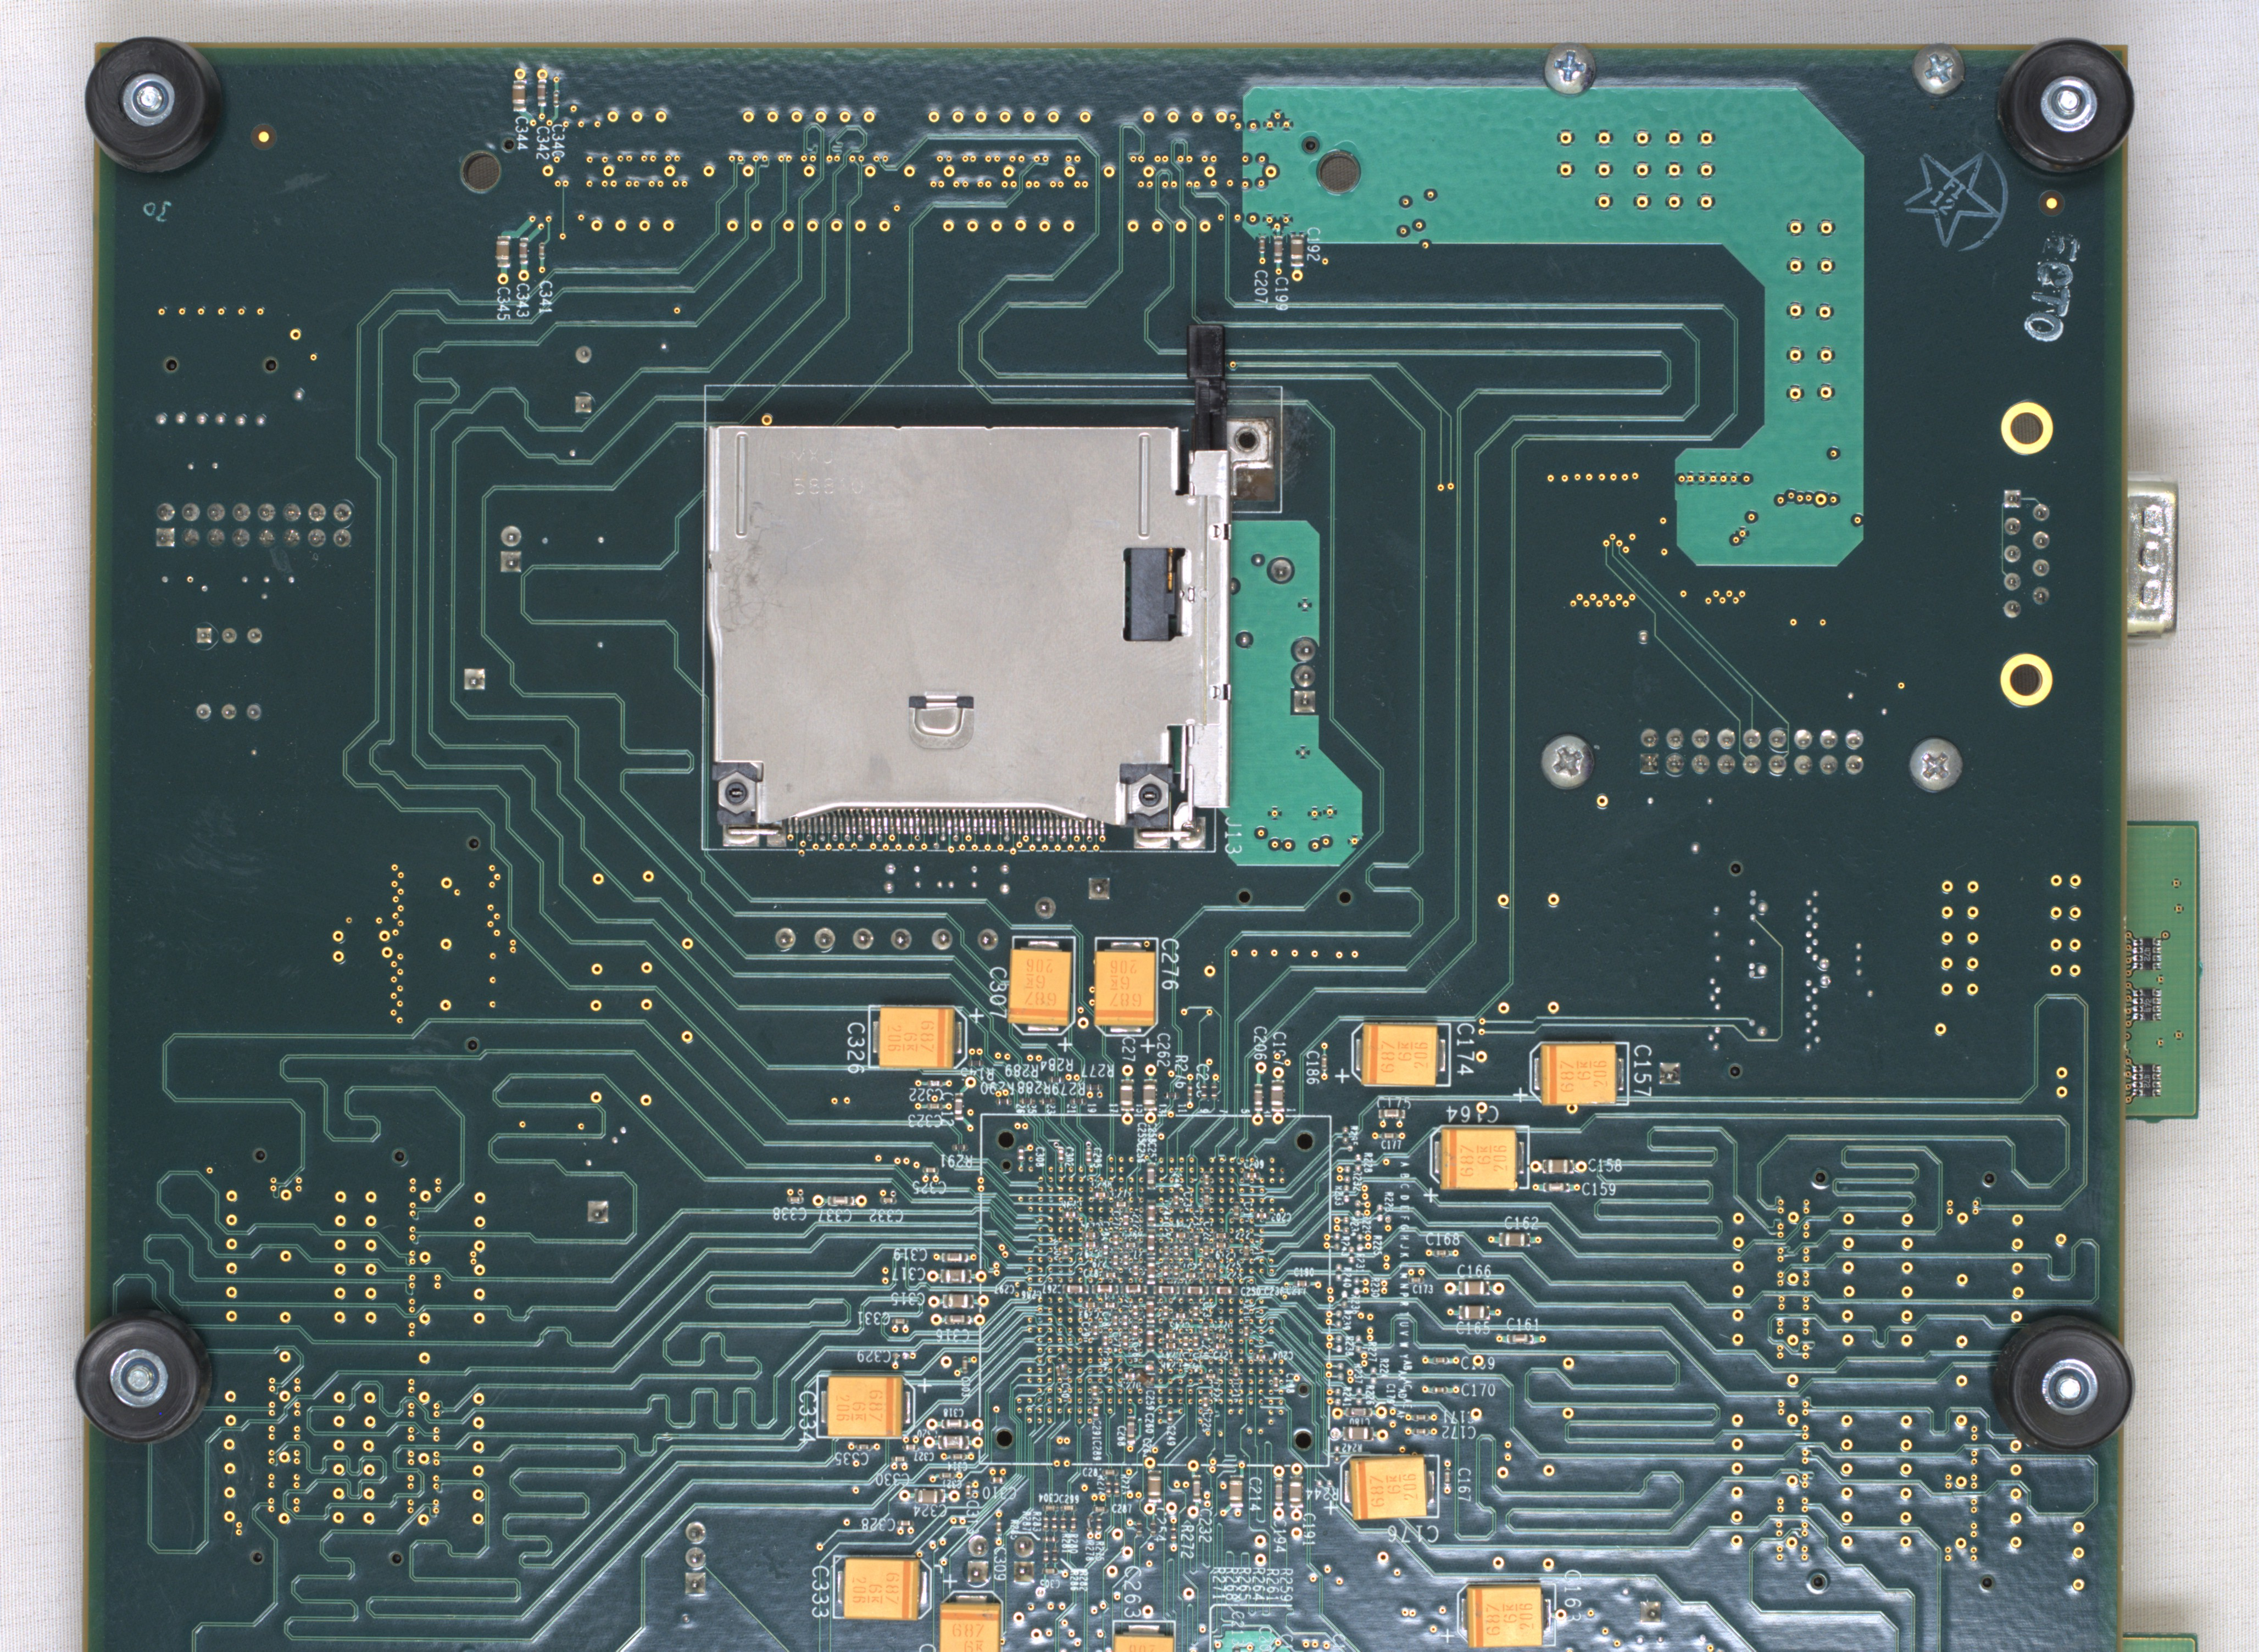capacitor C158: (1542, 1157, 1573, 1175)
capacitor C159: (1543, 1182, 1570, 1193)
capacitor C161: (1507, 1333, 1535, 1345)
capacitor C162: (1498, 1231, 1531, 1247)
capacitor C165: (1459, 1305, 1491, 1321)
capacitor C166: (1457, 1280, 1491, 1296)
capacitor C167: (1443, 1468, 1450, 1485)
capacitor C168: (1433, 1249, 1450, 1257)
capacitor C170: (1431, 1385, 1447, 1394)
capacitor C171: (1414, 1413, 1429, 1422)
capacitor C172: (1414, 1426, 1429, 1435)
capacitor C173: (1408, 1277, 1424, 1284)
capacitor C175: (1379, 1108, 1405, 1119)
capacitor C177: (1380, 1131, 1398, 1140)
capacitor C179: (1343, 1406, 1372, 1417)
capacitor C180: (1343, 1426, 1373, 1442)
capacitor C186: (1321, 1054, 1328, 1072)
capacitor C190: (1294, 1280, 1310, 1287)
capacitor C191: (1289, 1475, 1305, 1508)
capacitor C192: (1291, 235, 1305, 268)
capacitor C194: (1275, 1478, 1284, 1506)
capacitor C197: (1270, 1080, 1286, 1112)
capacitor C198: (1272, 1373, 1280, 1392)
capacitor C199: (1273, 235, 1282, 263)
capacitor C203: (1254, 1212, 1270, 1219)
capacitor C204: (1252, 1352, 1268, 1359)
capacitor C206: (1254, 1084, 1263, 1112)
capacitor C207: (1259, 237, 1265, 253)
capacitor C209: (1244, 1171, 1261, 1178)
capacitor C214: (1228, 1475, 1244, 1508)
capacitor C217: (1210, 1285, 1238, 1296)
capacitor C229: (1201, 1392, 1208, 1410)
capacitor C232: (1193, 1475, 1201, 1503)
capacitor C236: (1182, 1285, 1208, 1296)
capacitor C249: (1166, 1406, 1173, 1426)
capacitor C250: (1152, 1285, 1180, 1294)
capacitor C254: (1147, 1470, 1161, 1503)
capacitor C255: (1147, 1229, 1156, 1256)
capacitor C256: (1145, 1257, 1156, 1285)
capacitor C258: (1147, 1163, 1156, 1191)
capacitor C259: (1145, 1296, 1156, 1324)
capacitor C260: (1145, 1324, 1156, 1352)
capacitor C262: (1142, 1079, 1156, 1112)
capacitor C267: (1119, 1284, 1147, 1294)
capacitor C268: (1126, 1417, 1135, 1445)
capacitor C270: (1121, 1373, 1135, 1378)
capacitor C282: (1101, 1468, 1119, 1477)
capacitor C286: (1091, 1284, 1117, 1294)
capacitor C287: (1093, 1505, 1108, 1512)
capacitor C288: (1093, 1191, 1108, 1198)
capacitor C289: (1093, 1403, 1100, 1421)
capacitor C291: (1091, 1382, 1098, 1399)
capacitor C295: (1086, 1147, 1091, 1166)
capacitor C297: (1061, 1284, 1089, 1294)
capacitor C299: (1061, 1505, 1077, 1512)
capacitor C302: (1058, 1145, 1065, 1163)
capacitor C303: (961, 1356, 968, 1375)
capacitor C304: (1042, 1505, 1059, 1512)
capacitor C305: (1042, 1568, 1059, 1575)
capacitor C308: (1017, 1145, 1024, 1161)
capacitor C309: (994, 1519, 1001, 1536)
capacitor C310: (989, 1475, 1005, 1484)
capacitor C313: (965, 1482, 972, 1499)
capacitor C314: (951, 1454, 966, 1459)
capacitor C315: (942, 1294, 973, 1308)
capacitor C316: (945, 1314, 972, 1326)
capacitor C317: (940, 1268, 972, 1284)
capacitor C318: (942, 1419, 968, 1429)
capacitor C319: (942, 1252, 968, 1263)
capacitor C321: (940, 1471, 954, 1480)
capacitor C322: (926, 1080, 944, 1087)
capacitor C323: (926, 1103, 944, 1110)
capacitor C324: (914, 1489, 945, 1503)
capacitor C325: (923, 1166, 940, 1175)
capacitor C327: (901, 1443, 917, 1452)
capacitor C328: (896, 1519, 914, 1527)
capacitor C330: (891, 1456, 907, 1463)
capacitor C331: (891, 1319, 909, 1326)
capacitor C332: (879, 1196, 898, 1205)
capacitor C335: (856, 1443, 872, 1450)
capacitor C337: (828, 1194, 854, 1207)
capacitor C338: (786, 1196, 805, 1203)
capacitor C340: (552, 89, 559, 107)
capacitor C341: (538, 242, 545, 260)
capacitor C342: (537, 79, 547, 107)
capacitor C343: (517, 237, 528, 265)
capacitor C344: (512, 81, 526, 112)
capacitor C345: (495, 235, 510, 268)
capacitor unknown: (1119, 1079, 1135, 1112), (938, 1435, 970, 1450), (954, 1093, 965, 1121), (1135, 1371, 1152, 1387), (1147, 1200, 1156, 1228), (1056, 1363, 1068, 1380), (1172, 1191, 1180, 1210), (1061, 1210, 1079, 1219), (1061, 1240, 1070, 1257), (1082, 1240, 1100, 1249), (1172, 1231, 1189, 1240), (1182, 1242, 1191, 1259), (1172, 1263, 1180, 1280), (1182, 1271, 1200, 1280), (1201, 1271, 1219, 1280), (1101, 1301, 1119, 1310), (1131, 1301, 1140, 1319), (1131, 1322, 1140, 1340), (1121, 1333, 1129, 1350), (1172, 1312, 1189, 1321), (1161, 1342, 1179, 1350), (1180, 1333, 1189, 1350), (1212, 1342, 1229, 1350), (1214, 1231, 1229, 1240), (1203, 1261, 1219, 1270), (1112, 1229, 1119, 1249), (1203, 1170, 1210, 1189), (1233, 1201, 1240, 1221), (1091, 1321, 1098, 1340), (1201, 1322, 1208, 1342), (1101, 1271, 1119, 1278), (1122, 1212, 1129, 1229), (1121, 1242, 1138, 1249), (1122, 1252, 1129, 1270), (1203, 1191, 1210, 1208), (1173, 1242, 1180, 1259), (1193, 1231, 1200, 1249), (1163, 1261, 1170, 1278), (1203, 1242, 1210, 1259), (1214, 1240, 1228, 1249), (1112, 1312, 1119, 1329), (1122, 1312, 1129, 1329), (1101, 1331, 1108, 1349), (1212, 1333, 1229, 1340), (1201, 1373, 1219, 1380), (1233, 1363, 1240, 1380), (1244, 1322, 1251, 1340), (1433, 1357, 1449, 1364), (1082, 1231, 1098, 1238), (1101, 1243, 1108, 1259), (1112, 1252, 1119, 1268), (1114, 1201, 1129, 1208), (1163, 1242, 1170, 1257), (1082, 1301, 1098, 1308), (1193, 1333, 1200, 1349), (1163, 1301, 1168, 1321), (1187, 1082, 1193, 1100), (1133, 1261, 1138, 1278), (1244, 1242, 1249, 1259), (1193, 1303, 1198, 1319), (1163, 1333, 1179, 1338)
component text" "697 6K 206: (849, 1568, 903, 1610), (884, 1015, 937, 1057), (1484, 1598, 1540, 1636), (1021, 956, 1059, 1010), (1368, 1470, 1419, 1510), (1379, 1036, 1431, 1075), (833, 1387, 886, 1426), (1107, 958, 1144, 1010), (1459, 1140, 1510, 1177), (1559, 1057, 1612, 1093)
component text" "MXU 58810: (787, 442, 870, 498)
component text" 472: (2143, 998, 2152, 1014), (2143, 1073, 2152, 1089), (2143, 947, 2150, 963)
connector J13: (705, 377, 1219, 854)
connector unknown: (2119, 475, 2178, 651)
electrolytic capacitor" C157: (1528, 1040, 1629, 1107)
electrolytic capacitor" C163: (1456, 1582, 1556, 1648)
electrolytic capacitor" C164: (1429, 1124, 1531, 1191)
electrolytic capacitor" C174: (1350, 1021, 1452, 1087)
electrolytic capacitor" C176: (1340, 1454, 1440, 1520)
electrolytic capacitor" C276: (1093, 936, 1159, 1036)
electrolytic capacitor" C307: (1007, 935, 1077, 1036)
electrolytic capacitor" C326: (868, 1005, 968, 1072)
electrolytic capacitor" C333: (833, 1556, 931, 1620)
electrolytic capacitor" C334: (816, 1375, 916, 1438)
pads R223: (1375, 1203, 1384, 1222)
pads R224: (1370, 1366, 1379, 1384)
pads R225: (1356, 1233, 1363, 1252)
pads R226: (1354, 1387, 1363, 1406)
pads R227: (1354, 1335, 1363, 1356)
pads R228: (1354, 1154, 1363, 1171)
pads R229: (1354, 1200, 1361, 1219)
pads R230: (1352, 1277, 1359, 1296)
pads R231: (1347, 1245, 1356, 1266)
pads R232: (1343, 1166, 1350, 1184)
pads R233: (1342, 1184, 1350, 1203)
pads R234: (1342, 1215, 1349, 1235)
pads R236: (1340, 1289, 1349, 1308)
pads R237: (1336, 1361, 1345, 1382)
pads R238: (1335, 1333, 1343, 1356)
pads R239: (1335, 1308, 1343, 1328)
pads R240: (1335, 1263, 1342, 1282)
pads R241: (1335, 1387, 1342, 1406)
pads R242: (1333, 1445, 1340, 1464)
pads R243: (1333, 1233, 1342, 1252)
pads R244: (1315, 1478, 1335, 1487)
pads R285: (1342, 1126, 1349, 1145)
pins unknown: (1635, 726, 1868, 779), (153, 500, 356, 551), (1998, 482, 2052, 628), (191, 624, 265, 723), (770, 926, 1000, 956), (1289, 635, 1321, 716), (681, 1519, 709, 1598), (570, 344, 596, 417), (496, 521, 524, 575), (965, 1535, 989, 1584), (1012, 1535, 1035, 1584), (1266, 554, 1296, 586), (461, 666, 488, 694), (1656, 1059, 1682, 1087), (1086, 875, 1112, 903), (586, 1198, 610, 1228), (1031, 894, 1058, 921), (1638, 1598, 1663, 1624)
resistor R145: (968, 1059, 984, 1066)
resistor R272: (1168, 1526, 1177, 1542)
resistor R273: (1114, 1480, 1121, 1498)
resistor R274: (1105, 1480, 1112, 1498)
resistor R275: (1096, 1517, 1103, 1533)
resistor R276: (1163, 1093, 1180, 1098)
resistor R277: (1086, 1084, 1103, 1091)
resistor R279: (1070, 1098, 1086, 1105)
resistor R280: (1070, 1515, 1077, 1531)
resistor R281: (1061, 1515, 1066, 1533)
resistor R282: (1052, 1547, 1059, 1563)
resistor R283: (1052, 1515, 1058, 1531)
resistor R284: (1047, 1075, 1065, 1084)
resistor R285: (1042, 1536, 1059, 1543), (1044, 1547, 1049, 1564)
resistor R287: (1042, 1515, 1049, 1531)
resistor R288: (1038, 1098, 1056, 1105)
resistor R289: (1017, 1098, 1035, 1103)
resistor R290: (994, 1098, 1012, 1105)
resistor R291: (951, 1143, 970, 1150)
resistor network" unknown: (2133, 987, 2163, 1021), (2131, 1065, 2161, 1098), (2133, 936, 2161, 972)
resistor unknown: (1137, 1519, 1144, 1538), (1210, 1082, 1217, 1100), (1201, 1084, 1207, 1101), (1151, 1520, 1156, 1536)
text +: (1512, 1086, 1529, 1103), (968, 1007, 986, 1024), (916, 1377, 933, 1394), (1422, 1187, 1440, 1203), (1335, 1066, 1350, 1084), (1140, 1036, 1156, 1054), (1056, 1036, 1073, 1052), (942, 1573, 958, 1589), (1440, 1629, 1456, 1645), (1324, 1499, 1338, 1515)
text 1: (1286, 1107, 1296, 1112)
text 11: (1177, 1103, 1189, 1114)
text 12: (942, 1110, 954, 1128)
text 13: (1158, 1103, 1168, 1114)
text 15: (1135, 1103, 1145, 1114)
text 17: (1107, 1101, 1119, 1114)
text 19: (1086, 1103, 1098, 1112)
text 20: (916, 1428, 928, 1440)
text 21: (1066, 1103, 1079, 1114)
text 23: (1045, 1103, 1058, 1114)
text 25: (1026, 1103, 1037, 1114)
text 26: (1015, 1103, 1026, 1114)
text 30: (137, 196, 177, 226)
text 5: (1238, 1108, 1251, 1114)
text 7: (1217, 1108, 1229, 1114)
text 9: (1487, 1356, 1496, 1371), (1198, 1108, 1210, 1114)
text A: (1400, 1161, 1410, 1168)
text AA: (1398, 1370, 1407, 1380)
text AB: (1401, 1357, 1412, 1371)
text AC: (1403, 1380, 1412, 1391)
text AD: (1398, 1387, 1407, 1399)
text AE: (1401, 1398, 1412, 1408)
text AF: (1396, 1408, 1407, 1421)
text B: (1400, 1171, 1410, 1178)
text C: (1459, 1356, 1470, 1371), (942, 1091, 954, 1101), (1244, 1201, 1254, 1208), (1400, 1184, 1410, 1189)
text C157: (1633, 1043, 1654, 1100)
text C158: (1587, 1157, 1622, 1173)
text C159: (1580, 1180, 1617, 1198)
text C161: (1505, 1317, 1540, 1333)
text C162: (1503, 1215, 1540, 1231)
text C163: (1563, 1568, 1582, 1622)
text C164: (1443, 1103, 1500, 1126)
text C165: (1456, 1321, 1491, 1336)
text C166: (1456, 1263, 1493, 1278)
text C167: (1457, 1466, 1473, 1503)
text C168: (1424, 1231, 1461, 1247)
text C170: (1459, 1382, 1498, 1398)
text C171: (1443, 1408, 1475, 1424)
text C172: (1440, 1424, 1477, 1440)
text C173: (1412, 1284, 1435, 1294)
text C174: (1456, 1019, 1475, 1077)
text C175: (1373, 1094, 1412, 1110)
text C176: (1387, 1524, 1440, 1545)
text C177: (1380, 1140, 1401, 1150)
text C179: (1386, 1384, 1396, 1405)
text C180: (1349, 1417, 1372, 1428)
text C186: (1305, 1049, 1321, 1086)
text C190: (1293, 1266, 1315, 1278)
text C191: (1301, 1512, 1315, 1547)
text C192: (1307, 226, 1321, 261)
text C194: (1272, 1519, 1287, 1554)
text C197: (1270, 1029, 1287, 1066)
text C198: (1286, 1371, 1296, 1394)
text C199: (1273, 275, 1289, 314)
text C2: (1194, 1063, 1210, 1082)
text C203: (1270, 1212, 1291, 1222)
text C204: (1272, 1350, 1294, 1361)
text C206: (1252, 1026, 1268, 1061)
text C207: (1254, 268, 1270, 307)
text C209: (1242, 1157, 1265, 1170)
text C214: (1247, 1477, 1263, 1512)
text C217: (1286, 1284, 1307, 1296)
text C229: (1201, 1412, 1212, 1433)
text C232: (1198, 1506, 1212, 1545)
text C236: (1265, 1285, 1284, 1298)
text C249: (1165, 1424, 1177, 1447)
text C25: (1147, 1142, 1158, 1157)
text C250: (1240, 1285, 1261, 1296)
text C254: (1152, 1506, 1168, 1543)
text C255: (1137, 1121, 1147, 1142)
text C256: (1135, 1142, 1147, 1164)
text C258: (1147, 1121, 1158, 1143)
text C259: (1144, 1389, 1156, 1412)
text C26: (1142, 1438, 1152, 1454)
text C260: (1144, 1412, 1154, 1435)
text C262: (1156, 1031, 1172, 1068)
text C263: (1122, 1564, 1142, 1619)
text C267: (1042, 1284, 1061, 1294)
text C268: (1115, 1426, 1128, 1447)
text C27: (1121, 1036, 1137, 1063), (1110, 1210, 1122, 1226)
text C270: (1119, 1380, 1142, 1391)
text C276: (1159, 936, 1180, 991)
text C28: (1082, 1268, 1100, 1278)
text C282: (1082, 1466, 1103, 1477)
text C286: (1021, 1289, 1044, 1300)
text C287: (1110, 1503, 1133, 1513)
text C288: (1091, 1178, 1112, 1189)
text C289: (1091, 1440, 1103, 1461)
text C29: (1084, 1249, 1100, 1259)
text C291: (1091, 1421, 1101, 1440)
text C295: (1093, 1147, 1103, 1168)
text C297: (993, 1284, 1015, 1296)
text C299: (1059, 1492, 1079, 1505)
text C302: (1065, 1147, 1075, 1168)
text C303: (961, 1375, 970, 1398)
text C304: (1037, 1492, 1059, 1503)
text C305: (1038, 1578, 1061, 1589)
text C307: (989, 966, 1007, 1021)
text C308: (1035, 1145, 1045, 1168)
text C309: (993, 1547, 1007, 1582)
text C310: (980, 1484, 1017, 1501)
text C313: (965, 1499, 979, 1535)
text C314: (945, 1461, 968, 1473)
text C315: (891, 1291, 924, 1308)
text C316: (935, 1328, 970, 1343)
text C317: (889, 1266, 926, 1284)
text C318: (942, 1408, 965, 1419)
text C319: (893, 1247, 928, 1263)
text C321: (942, 1478, 963, 1489)
text C322: (909, 1086, 944, 1103)
text C323: (907, 1112, 942, 1129)
text C324: (912, 1503, 947, 1517)
text C325: (910, 1178, 947, 1196)
text C326: (845, 1021, 866, 1075)
text C327: (914, 1450, 935, 1463)
text C328: (861, 1517, 896, 1533)
text C329: (856, 1349, 891, 1364)
text C330: (875, 1471, 910, 1487)
text C331: (856, 1310, 891, 1326)
text C332: (868, 1208, 905, 1224)
text C333: (810, 1564, 831, 1620)
text C334: (798, 1389, 816, 1443)
text C335: (833, 1450, 870, 1468)
text C337: (817, 1208, 852, 1224)
text C338: (772, 1207, 807, 1222)
text C340: (552, 121, 565, 161)
text C341: (537, 279, 554, 314)
text C342: (535, 125, 551, 161)
text C343: (516, 281, 531, 319)
text C344: (514, 116, 530, 153)
text C345: (496, 286, 512, 323)
text D: (1400, 1194, 1410, 1201)
text E: (1400, 1203, 1410, 1212)
text ECTO: (2022, 228, 2082, 351)
text F: (1400, 1215, 1410, 1222)
text FI12: (1926, 174, 1971, 217)
text G: (1400, 1222, 1410, 1231)
text H: (1400, 1235, 1410, 1240)
text J: (1398, 1243, 1410, 1250)
text J13: (1222, 814, 1244, 858)
text K: (1398, 1250, 1410, 1259)
text L: (1398, 1263, 1408, 1270)
text M: (1398, 1271, 1408, 1278)
text N: (1398, 1282, 1408, 1289)
text P: (1398, 1292, 1410, 1298)
text R: (1400, 1301, 1410, 1307)
text R145: (959, 1066, 994, 1082)
text R223: (1384, 1191, 1394, 1214)
text R224: (1379, 1357, 1389, 1380)
text R225: (1372, 1235, 1382, 1256)
text R226: (1365, 1384, 1375, 1405)
text R227: (1366, 1340, 1379, 1363)
text R228: (1363, 1152, 1373, 1173)
text R229: (1361, 1214, 1372, 1235)
text R230: (1370, 1277, 1380, 1300)
text R231: (1354, 1252, 1365, 1273)
text R232: (1352, 1170, 1363, 1193)
text R233: (1335, 1184, 1343, 1207)
text R234: (1349, 1215, 1361, 1238)
text R236: (1350, 1294, 1361, 1315)
text R237: (1352, 1363, 1363, 1384)
text R238: (1343, 1335, 1354, 1357)
text R239: (1342, 1308, 1352, 1331)
text R240: (1343, 1266, 1352, 1289)
text R241: (1342, 1385, 1352, 1406)
text R242: (1342, 1442, 1363, 1452)
text R243: (1340, 1235, 1350, 1257)
text R244: (1305, 1485, 1340, 1501)
text R259: (1280, 1568, 1294, 1603)
text R261: (1266, 1566, 1279, 1603)
text R264: (1252, 1566, 1266, 1603)
text R265: (1238, 1566, 1251, 1603)
text R268: (1226, 1566, 1238, 1601)
text R271: (1212, 1566, 1226, 1599)
text R272: (1180, 1524, 1194, 1561)
text R273: (1119, 1473, 1131, 1494)
text R274: (1096, 1477, 1107, 1496)
text R275: (1094, 1540, 1105, 1563)
text R276: (1173, 1052, 1189, 1091)
text R277: (1080, 1063, 1114, 1079)
text R278: (1084, 1540, 1094, 1561)
text R279: (1052, 1080, 1086, 1098)
text R280: (1070, 1533, 1079, 1556)
text R281: (1061, 1533, 1070, 1554)
text R282: (1079, 1570, 1089, 1592)
text R283: (1033, 1512, 1042, 1533)
text R284: (1038, 1056, 1075, 1073)
text R285: (1349, 1126, 1359, 1147), (1008, 1519, 1019, 1540)
text R286: (1070, 1568, 1079, 1592)
text R287: (1021, 1510, 1031, 1531)
text R288: (1017, 1080, 1051, 1096)
text R289: (1003, 1065, 1038, 1079)
text R290: (979, 1082, 1015, 1096)
text R291: (940, 1152, 973, 1168)
text T: (1400, 1310, 1410, 1319)
text U: (1398, 1321, 1408, 1329)
text V: (1398, 1329, 1410, 1336)
text W: (1398, 1340, 1410, 1349)
text Y: (1398, 1352, 1410, 1359)
